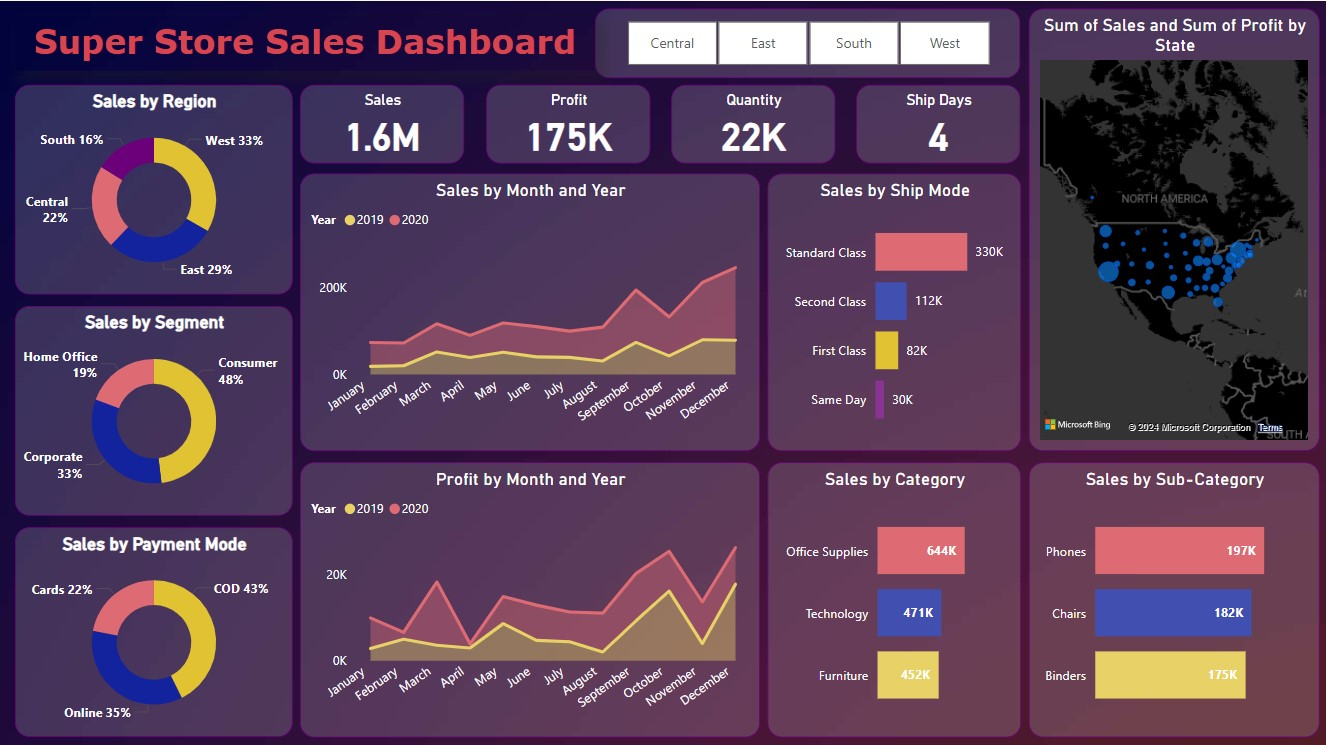

The dashboard page shown, as its layout file describes it:
{"tool":"powerbi","page":{"name":"Dashboard","canvas":[1280,720],"ordinal":0},"visuals":[{"type":"clusteredBarChart","title":"Sales by Category","fields":{"Category":["SuperStore_Sales_Dataset.Category"],"Y":["Sum(SuperStore_Sales_Dataset.Sales)"]},"box":[741,445.2,244.9,265.4],"z":0},{"type":"clusteredBarChart","title":"Sales by Sub-Category","fields":{"Category":["SuperStore_Sales_Dataset.Sub-Category"],"Y":["Sum(SuperStore_Sales_Dataset.Sales)"]},"box":[992.9,445.2,281.1,265.4],"z":1000},{"type":"clusteredBarChart","title":"Sales by Ship Mode","fields":{"Category":["SuperStore_Sales_Dataset.Ship Mode"],"Y":["Sum(SuperStore_Sales_Dataset.Sales)"]},"box":[741,166.5,244.9,267.8],"z":2000},{"type":"stackedAreaChart","title":"Sales by Month and Year","fields":{"Y":["Sum(SuperStore_Sales_Dataset.Sales)"],"Category":["SuperStore_Sales_Dataset.Order Date.Variation.Date Hierarchy.Month","SuperStore_Sales_Dataset.Order Date.Variation.Date Hierarchy.Day"],"Series":["SuperStore_Sales_Dataset.Order Date.Variation.Date Hierarchy.Year"]},"box":[289.5,166.5,444,267.8],"z":3000},{"type":"stackedAreaChart","title":"Profit by Month and Year","fields":{"Category":["SuperStore_Sales_Dataset.Order Date.Variation.Date Hierarchy.Month","SuperStore_Sales_Dataset.Order Date.Variation.Date Hierarchy.Day"],"Series":["SuperStore_Sales_Dataset.Order Date.Variation.Date Hierarchy.Year"],"Y":["Sum(SuperStore_Sales_Dataset.Profit)"]},"box":[289.5,445.2,444,265.4],"z":4000},{"type":"map","fields":{"Category":["SuperStore_Sales_Dataset.State"],"Size":["Sum(SuperStore_Sales_Dataset.Sales)"]},"box":[992.9,7.2,281.1,427.1],"z":5000},{"type":"donutChart","title":"Sales by Segment","fields":{"Category":["SuperStore_Sales_Dataset.Segment"],"Y":["Sum(SuperStore_Sales_Dataset.Sales)"]},"box":[14.5,294.4,267.8,202.7],"z":6000},{"type":"donutChart","title":"Sales by Payment Mode","fields":{"Y":["Sum(SuperStore_Sales_Dataset.Sales)"],"Category":["SuperStore_Sales_Dataset.Payment Mode"]},"box":[14.5,507.9,267.8,202.7],"z":7000},{"type":"slicer","fields":{"Values":["SuperStore_Sales_Dataset.Region"]},"box":[574.3,7.2,410.2,67.6],"z":8000},{"type":"textbox","box":[14.5,14.5,559.8,53.1],"z":9000},{"type":"card","title":"Sales","fields":{"Values":["Sum(SuperStore_Sales_Dataset.Sales)"]},"box":[289.5,80.8,158,76],"z":10000},{"type":"card","title":"Profit","fields":{"Values":["Sum(SuperStore_Sales_Dataset.Profit)"]},"box":[469.3,80.8,158,76],"z":11000},{"type":"card","title":"Quantity","fields":{"Values":["Sum(SuperStore_Sales_Dataset.Quantity)"]},"box":[647.9,80.8,158,76],"z":12000},{"type":"card","title":"Ship Days","fields":{"Values":["Avg(SuperStore_Sales_Dataset.AverageDelivery)"]},"box":[826.4,80.8,158,76],"z":13000},{"type":"donutChart","title":"Sales by Region","fields":{"Category":["SuperStore_Sales_Dataset.Region"],"Y":["Sum(SuperStore_Sales_Dataset.Sales)"]},"box":[14.5,80.8,267.8,202.7],"z":14000}]}

Visuals, with their boxes in screenshot pixels (x1, y1, x2, y2), scaled from the page's 1280x720 canvas onto the 1326x745 screenshot:
"Sales by Category" clusteredBarChart: <region>768, 461, 1021, 735</region>
"Sales by Sub-Category" clusteredBarChart: <region>1029, 461, 1320, 735</region>
"Sales by Ship Mode" clusteredBarChart: <region>768, 172, 1021, 449</region>
"Sales by Month and Year" stackedAreaChart: <region>300, 172, 760, 449</region>
"Profit by Month and Year" stackedAreaChart: <region>300, 461, 760, 735</region>
map - SuperStore_Sales_Dataset.State x Sum(SuperStore_Sales_Dataset.Sales): <region>1029, 7, 1320, 449</region>
"Sales by Segment" donutChart: <region>15, 305, 292, 514</region>
"Sales by Payment Mode" donutChart: <region>15, 526, 292, 735</region>
slicer - SuperStore_Sales_Dataset.Region: <region>595, 7, 1020, 77</region>
textbox: <region>15, 15, 595, 70</region>
"Sales" card: <region>300, 84, 464, 162</region>
"Profit" card: <region>486, 84, 650, 162</region>
"Quantity" card: <region>671, 84, 835, 162</region>
"Ship Days" card: <region>856, 84, 1020, 162</region>
"Sales by Region" donutChart: <region>15, 84, 292, 293</region>
